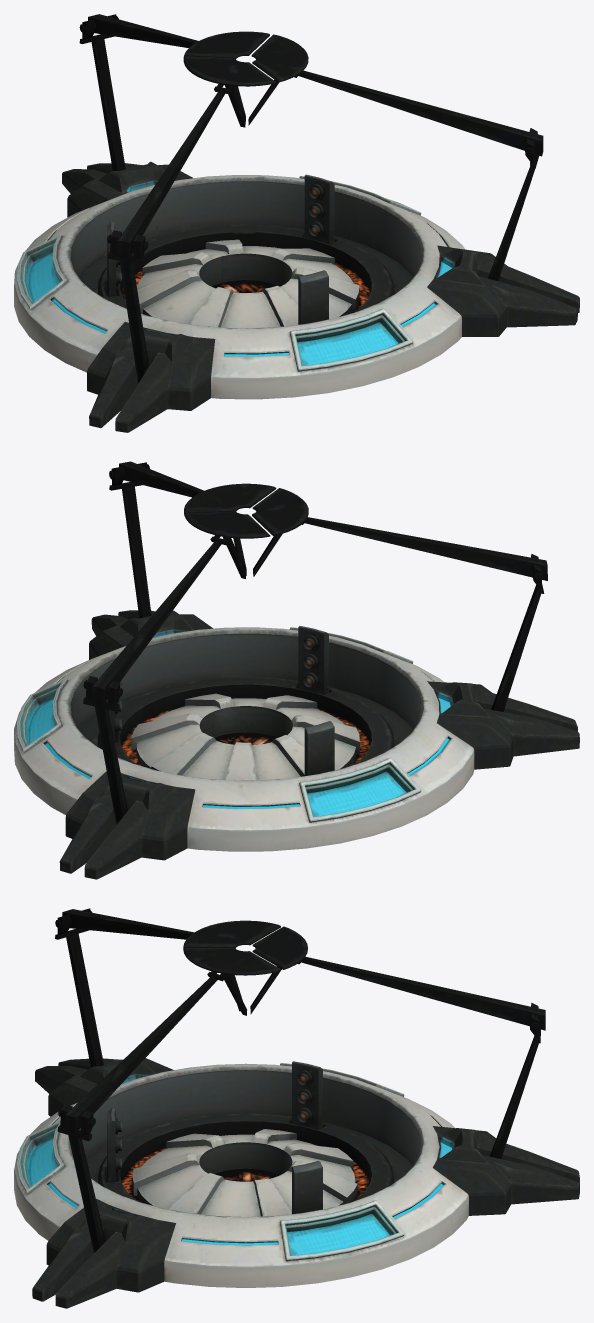
The model's file is energy_pallet_launcher.glb.
3 views of the same model, one above another, from view 1: azimuth 30°, elevation 25°; view 2: azimuth 150°, elevation 25°; view 3: azimuth 270°, elevation 25° (orthographic).
Parts seen in each view (by area): view 1: combine_ball_launcher; view 2: combine_ball_launcher; view 3: combine_ball_launcher.
Boxes of the visible parts, bbox=[...] form: combine_ball_launcher: bbox=[14, 14, 579, 432]; combine_ball_launcher: bbox=[14, 461, 579, 879]; combine_ball_launcher: bbox=[14, 908, 579, 1308].
Size of the model in its own units: 1.18 by 0.569 by 1.19.
Materials: 1 (1 with a texture image).
